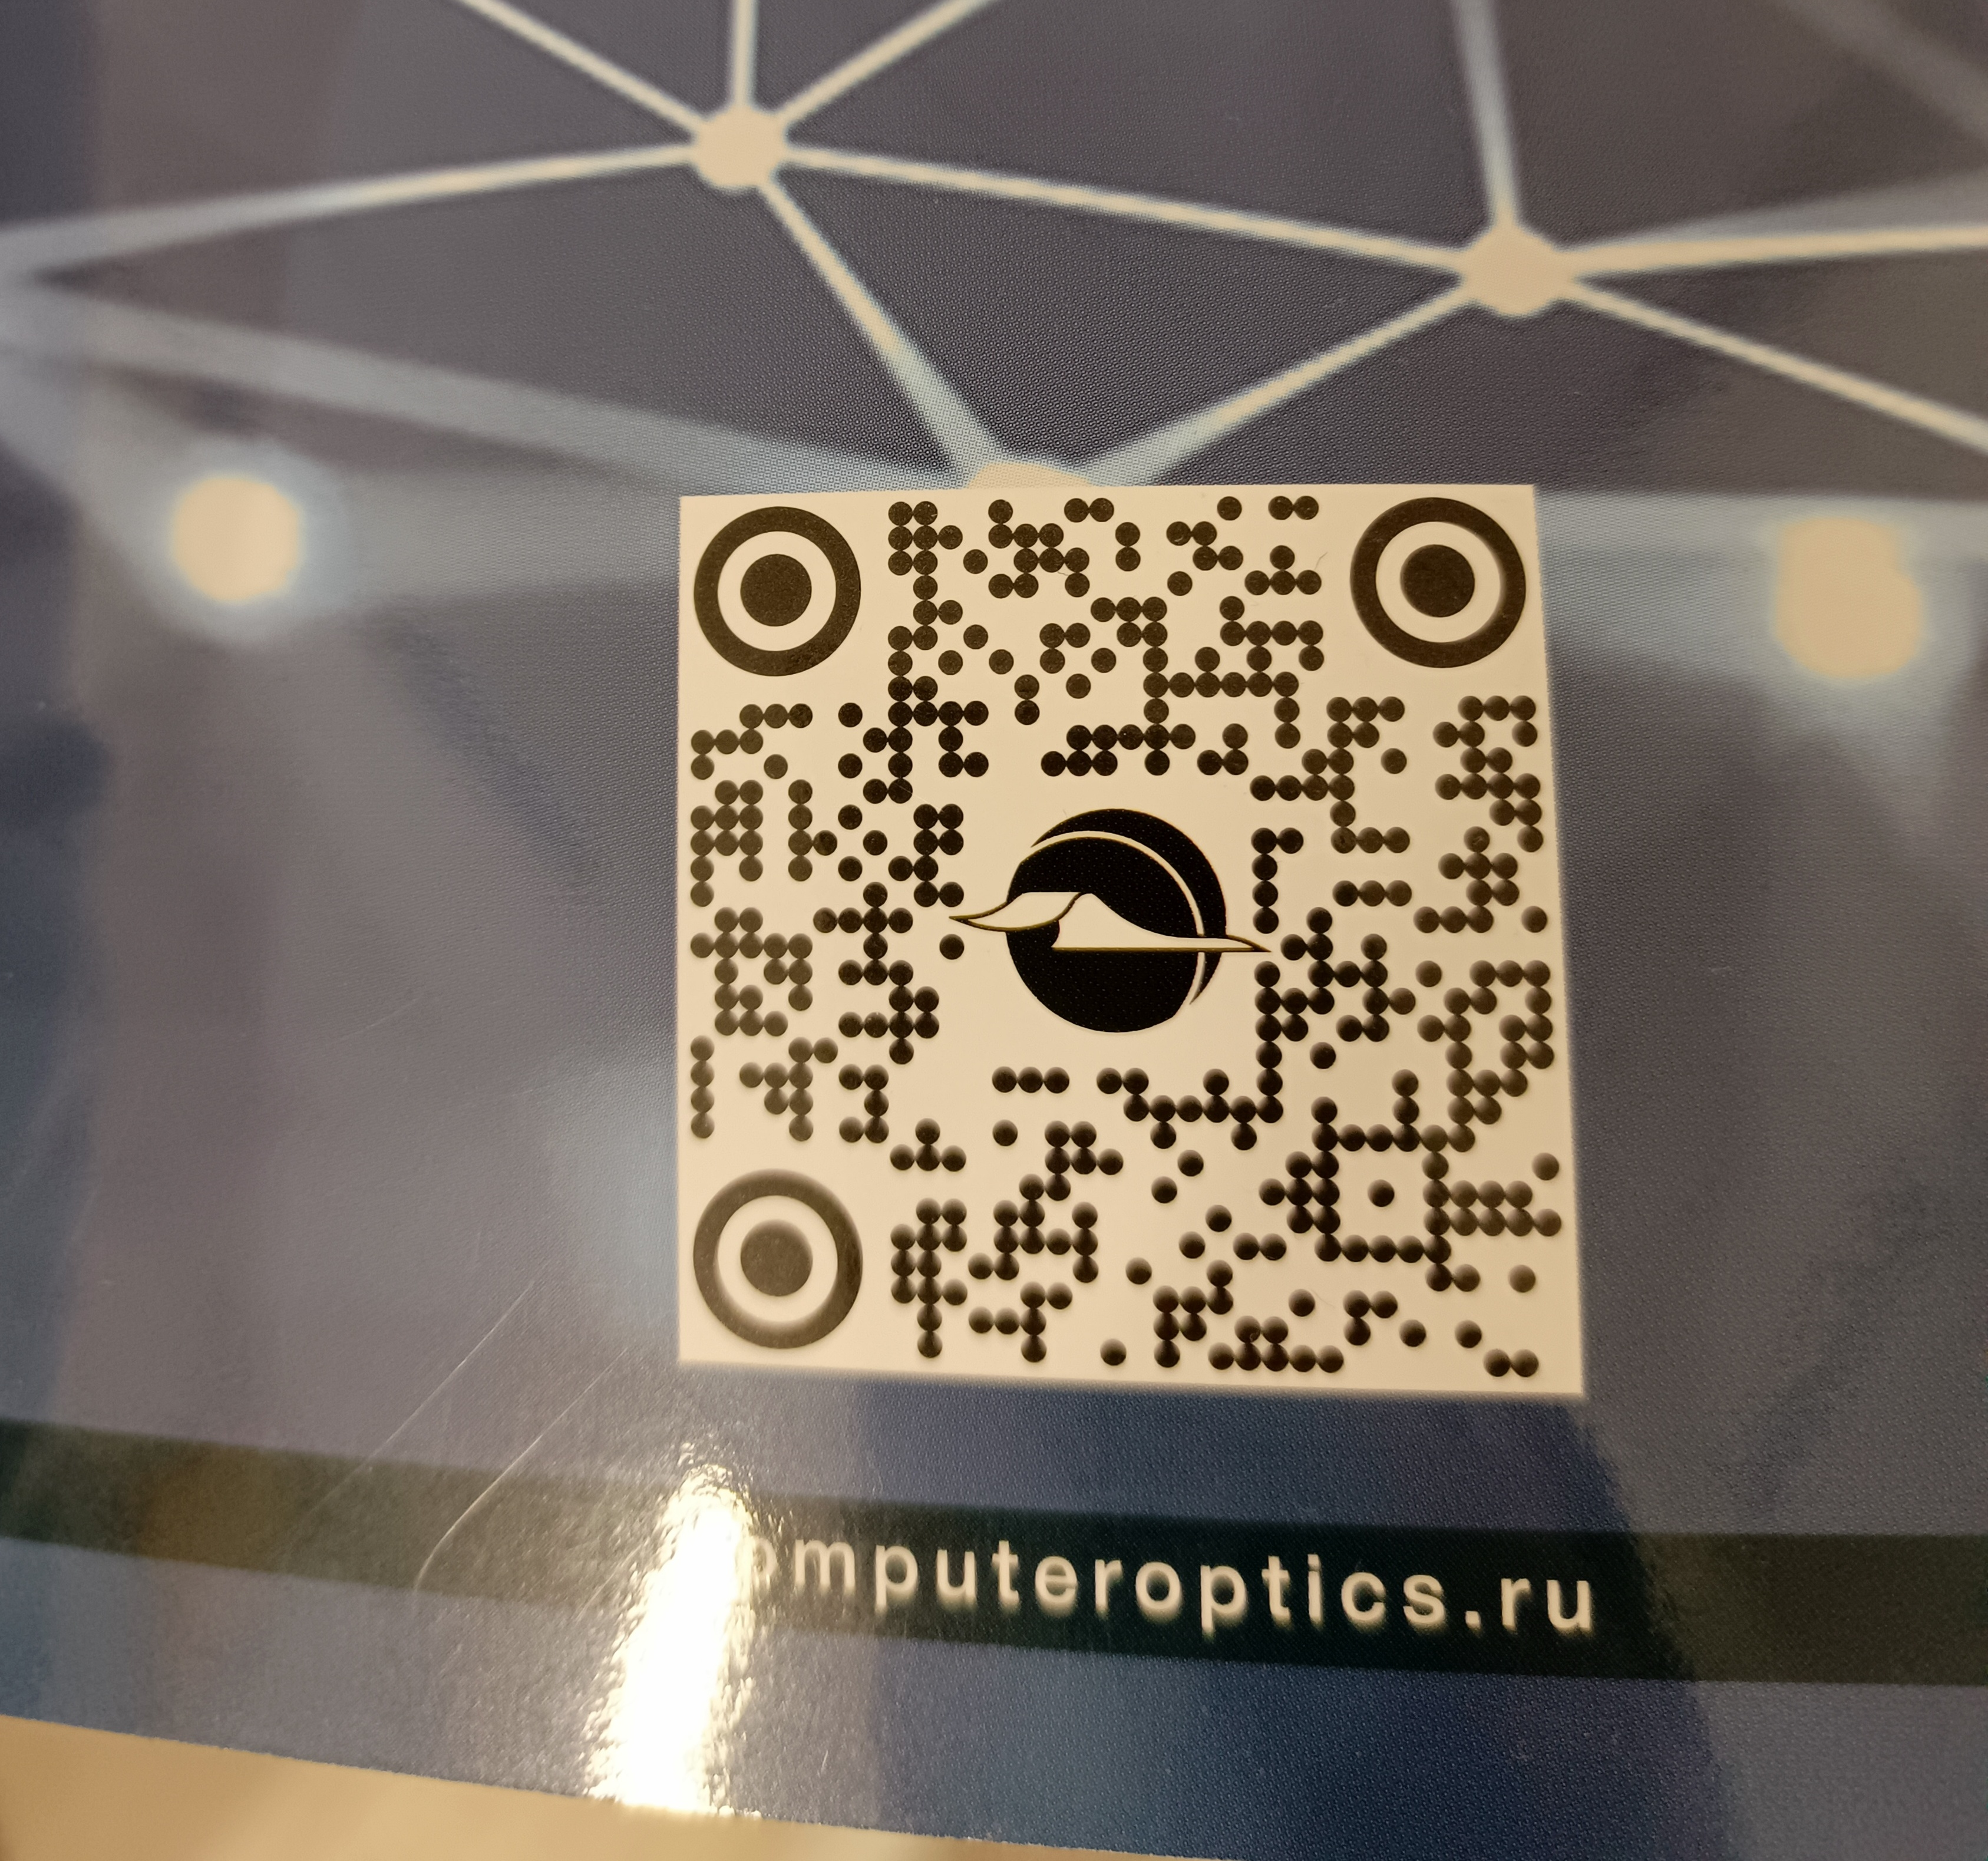2d: (678, 486, 1579, 1392)
